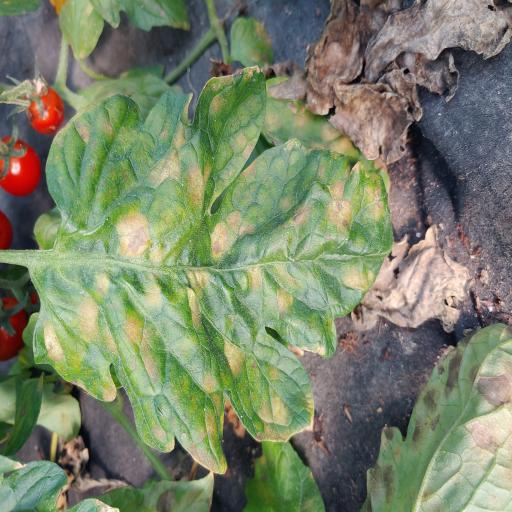Leaf Mold: (33, 69, 391, 476)
